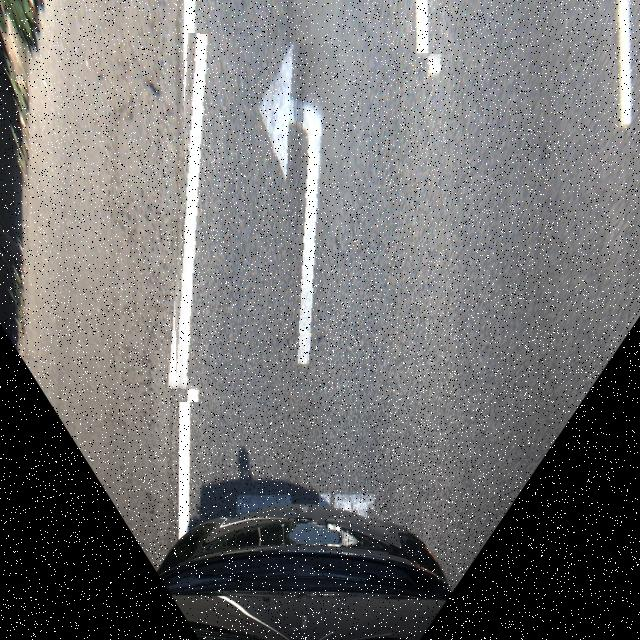left: (169, 38, 446, 402)
